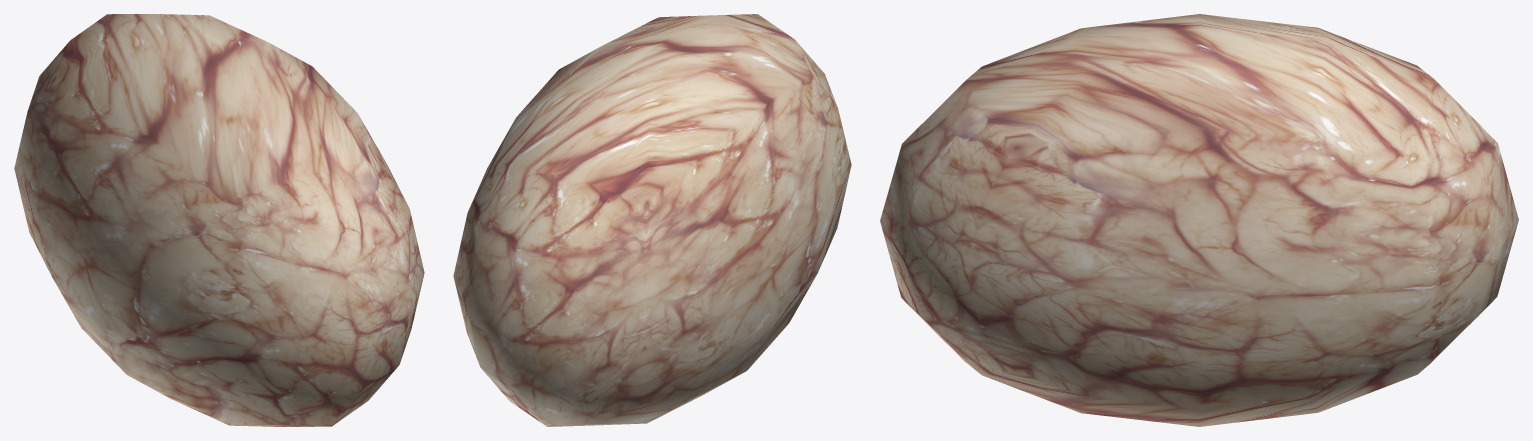
File: 女性_内分泌系统_松果体.fbx
3 renders of one model, left to right at view 1: azimuth 30°, elevation 25°; view 2: azimuth 150°, elevation 25°; view 3: azimuth 270°, elevation 25°, orthographic. The views are drawn at different scales.
Visible parts, largest first — view 1: 女性_内分泌系统_松果体; view 2: 女性_内分泌系统_松果体; view 3: 女性_内分泌系统_松果体.
Part boxes in pixels (<box>): 女性_内分泌系统_松果体: <box>14,14,424,426</box>; 女性_内分泌系统_松果体: <box>453,14,851,426</box>; 女性_内分泌系统_松果体: <box>880,14,1518,426</box>.
Size of the model in its own units: 0.3286 by 0.4236 by 0.6406.
